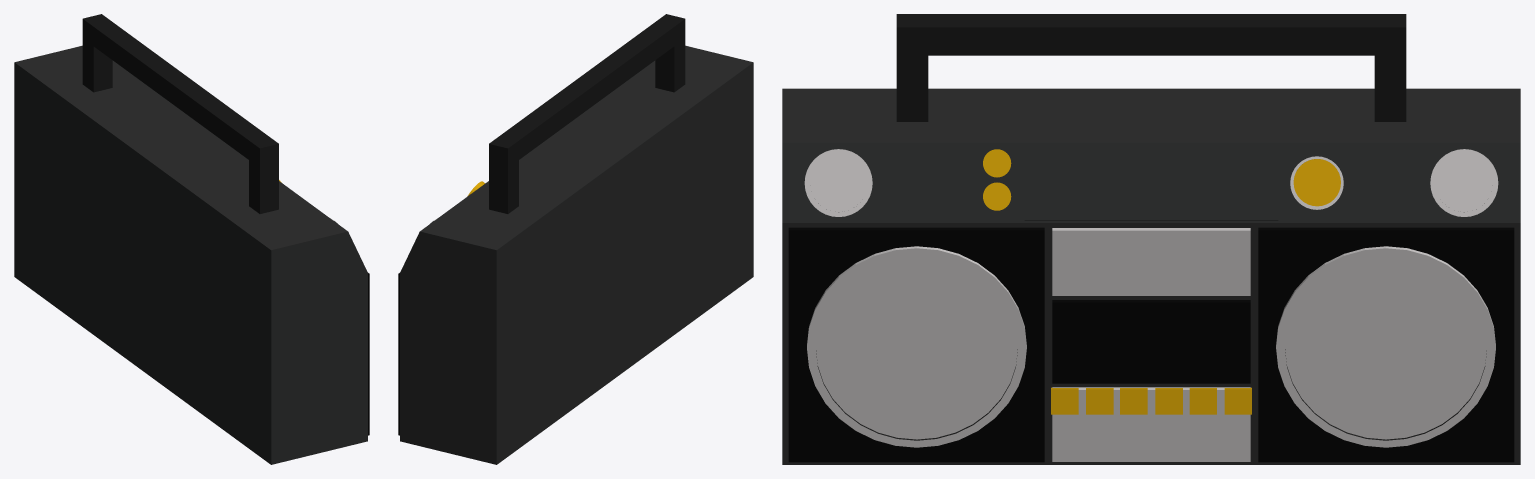
File: radio.fbx
The picture shows the model from 3 angles, left to right: view 1: azimuth 30°, elevation 25°; view 2: azimuth 150°, elevation 25°; view 3: azimuth 270°, elevation 25°; orthographic projection. The views are drawn at different scales.
Visible parts, largest first — view 1: CUERPO, Asa; view 2: CUERPO, Asa; view 3: CUERPO, Circle, Relieve_Altavoz, Asa, Relieves central 2, Relieves central 1, Relieves central 3, Circle.003, rueda, boton.002, boton.001, boton.003 (+1 smaller).
Boxes of the visible parts, box(x1,y1,x2,y2) form: CUERPO: box(14, 45, 367, 464); Asa: box(82, 14, 278, 213); CUERPO: box(400, 45, 753, 464); Asa: box(489, 14, 685, 213); CUERPO: box(782, 88, 1520, 464); Circle: box(807, 246, 1495, 447); Relieve_Altavoz: box(788, 227, 1514, 462); Asa: box(896, 14, 1406, 121); Relieves central 2: box(1052, 300, 1250, 383); Relieves central 1: box(1052, 228, 1250, 295); Relieves central 3: box(1052, 387, 1250, 461); Circle.003: box(804, 149, 1498, 216); rueda: box(1293, 159, 1340, 206); boton.002: box(1051, 387, 1251, 414); boton.001: box(1086, 388, 1216, 414); boton.003: box(1120, 388, 1182, 414).
Bounding box in the file's own units: 36.6 × 93.3 × 155.
